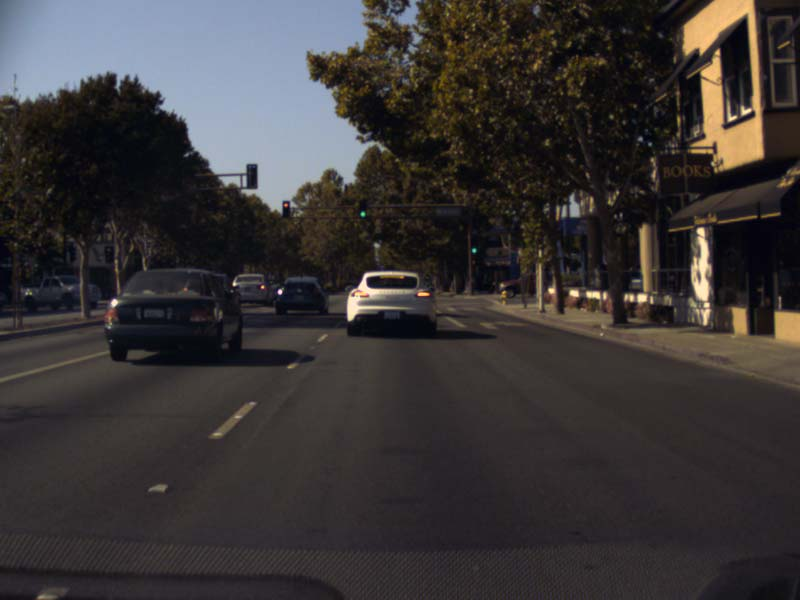Green: (470, 237, 478, 254), (360, 200, 367, 217)
Red: (282, 201, 290, 217)
